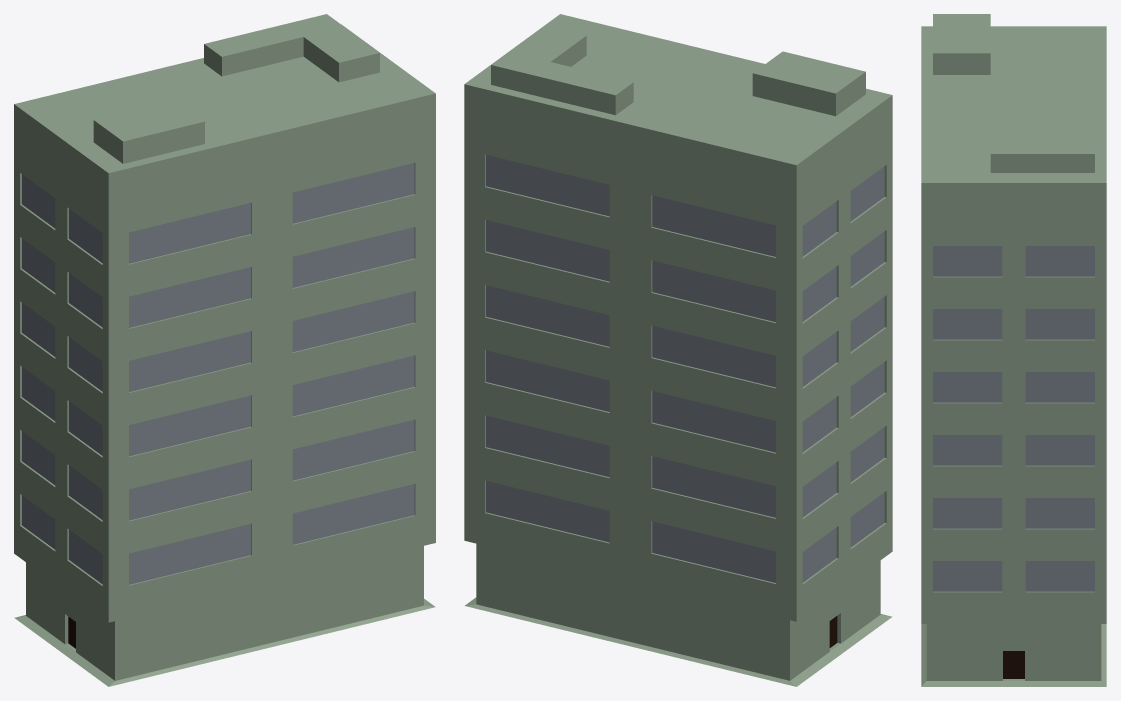
3 views of the same model, side by side, from view 1: azimuth 30°, elevation 25°; view 2: azimuth 150°, elevation 25°; view 3: azimuth 270°, elevation 25° (orthographic). The views are drawn at different scales.
Visible parts, largest first — view 1: Cube.020; view 2: Cube.020; view 3: Cube.020.
Boxes of the visible parts, x1,y1,x2,y2 form: Cube.020: (14, 14, 435, 686); Cube.020: (464, 14, 892, 686); Cube.020: (921, 14, 1106, 686).
Bounding box in the file's own units: 800 × 1252 × 400.
